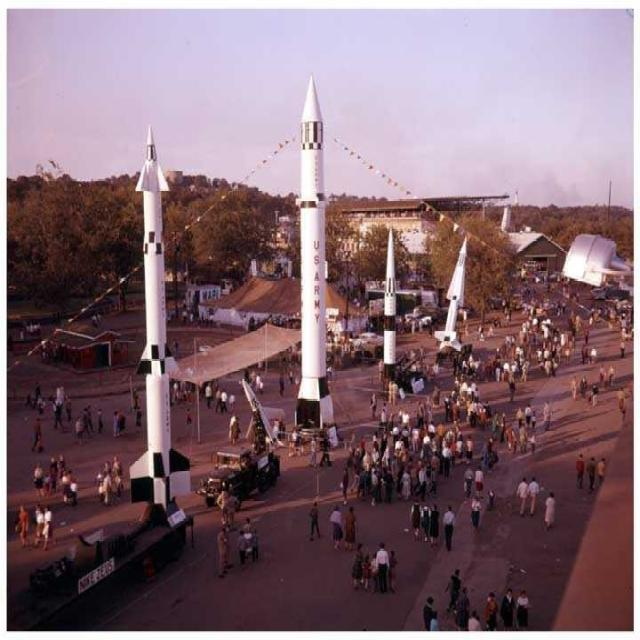missile: (136, 117, 184, 483), (294, 72, 336, 442), (438, 236, 469, 344), (382, 225, 402, 372)
